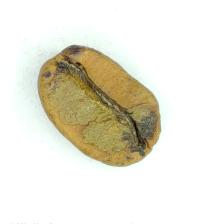NG: (57, 47, 158, 157)
